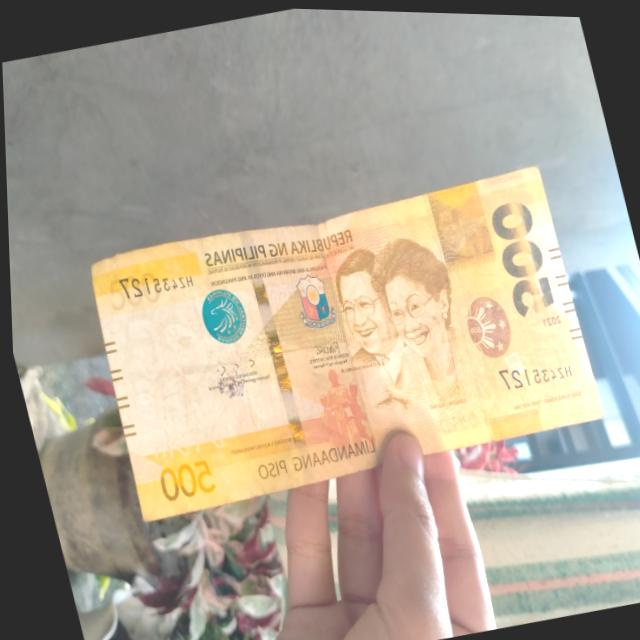concealed_value: (419, 174, 497, 268)
optically_variable_device: (449, 277, 524, 368)
security_thread: (232, 225, 312, 478)
see_through_mark: (142, 420, 233, 477)
serial_number: (101, 249, 202, 309), (484, 344, 579, 405)
value: (468, 182, 564, 332)
value_watermark: (125, 365, 162, 430)
watermark: (109, 284, 236, 446)
